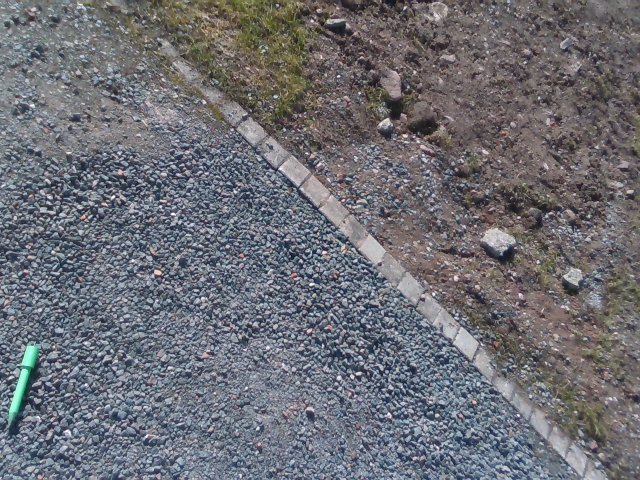Probe: (3, 342, 42, 434)
